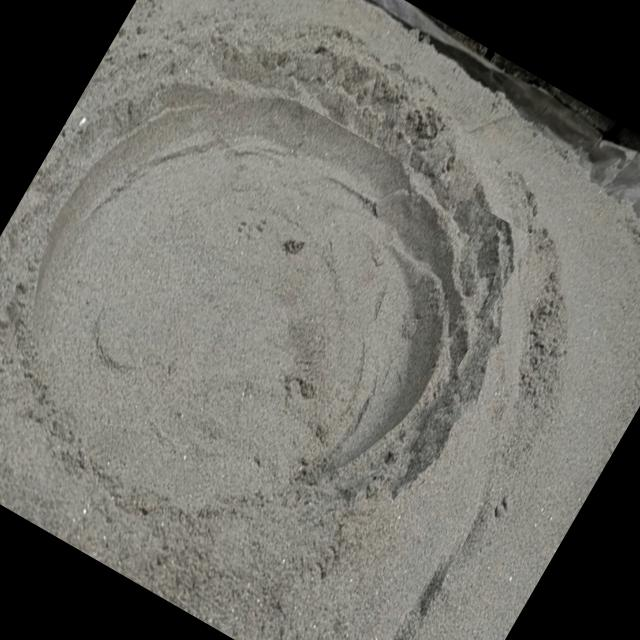C40: (30, 86, 495, 499)
